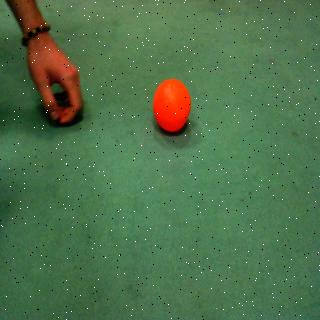orange: (153, 74, 199, 138)
